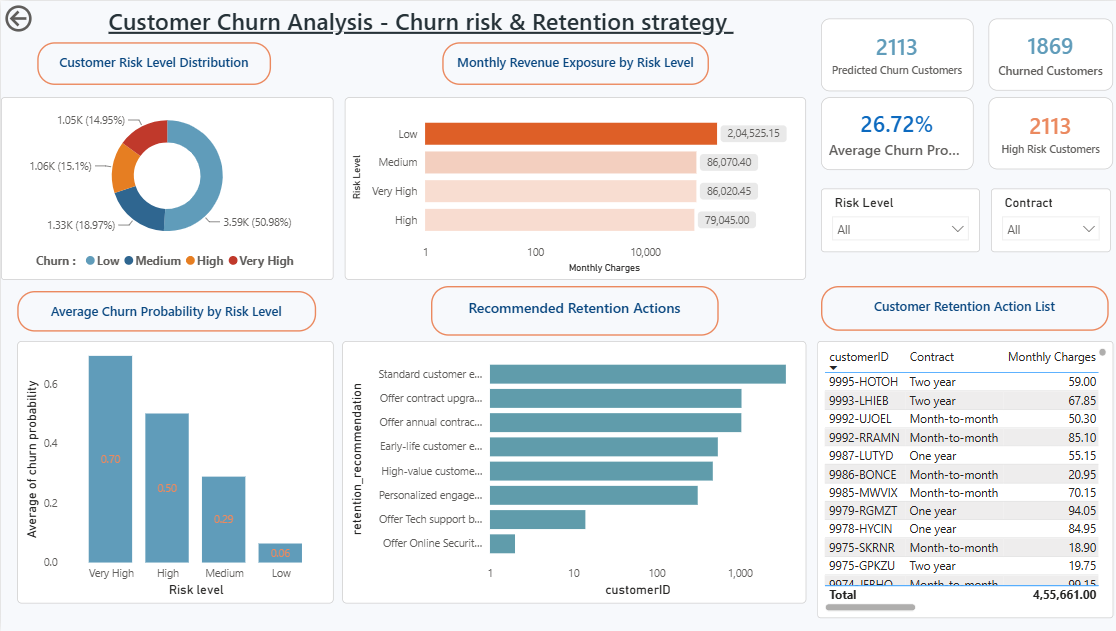

The page's visual inventory and layout, read from the dashboard file:
{"tool":"powerbi","page":{"name":"Churn risk & Retention strategy","canvas":[1280,720],"ordinal":2},"visuals":[{"type":"textbox","box":[101.4,0,757.1,47.1],"z":0},{"type":"cardVisual","fields":{"Data":["customer_churn_predictions.Predicted Churn Customers2"]},"box":[937.1,20,174.3,82.9],"z":1000},{"type":"cardVisual","fields":{"Data":["customer_churn_predictions.Churned Customers"]},"box":[1128.6,20,142.5,82.5],"z":2000},{"type":"cardVisual","fields":{"Data":["customer_churn_predictions.Average Churn Probability"]},"box":[937.1,110,174.3,82.9],"z":4000},{"type":"cardVisual","fields":{"Data":["customer_churn_predictions.High Risk Customers"]},"box":[1128.6,110,142.5,82.5],"z":6000},{"type":"donutChart","title":"Customer Churn Distribution","fields":{"Category":["customer_churn_predictions.risk_level"],"Y":["Count(customer_churn_predictions.customerID)"]},"box":[0,110,380,208.6],"z":7000},{"type":"textbox","box":[41.4,47.1,267.5,48.8],"z":8000},{"type":"barChart","fields":{"Category":["customer_churn_predictions.risk_level"],"Y":["Sum(customer_churn_predictions.MonthlyCharges)"]},"box":[392.9,110,527.5,208.8],"z":9000},{"type":"textbox","box":[504.3,47.1,305,48.8],"z":10000},{"type":"clusteredBarChart","fields":{"Category":["customer_churn_predictions.retention_recommendation"],"Y":["Count(customer_churn_predictions.customerID)"]},"box":[390,388.6,530,300],"z":11000},{"type":"textbox","box":[491.4,325.7,328.6,57.1],"z":12000},{"type":"textbox","box":[18.6,331.4,341.2,46.2],"z":13000},{"type":"columnChart","fields":{"Category":["customer_churn_predictions.risk_level"],"Y":["Avg(customer_churn_predictions.churn_probability)"]},"box":[18.6,388.6,361.4,300],"z":14000},{"type":"tableEx","fields":{"Values":["customer_churn_predictions.customerID","customer_churn_predictions.Contract","Sum(customer_churn_predictions.MonthlyCharges)","Sum(customer_churn_predictions.tenure)","customer_churn_predictions.churn_probability","customer_churn_predictions.risk_level","Sum(customer_churn_predictions.predicted_churn)","customer_churn_predictions.retention_recommendation"]},"box":[932.9,388.6,338.6,317.1],"z":14001},{"type":"actionButton","box":[0,0,100,40],"z":14002},{"type":"textbox","box":[937.1,325.7,328.6,51.4],"z":14003},{"type":"slicer","fields":{"Values":["customer_churn_predictions.risk_level"]},"box":[937.1,214.3,181.4,72.9],"z":14004},{"type":"slicer","fields":{"Values":["customer_churn_predictions.Contract"]},"box":[1131.4,214.3,137.1,72.9],"z":14005}]}

Visuals, with their boxes in screenshot pixels (x1, y1, x2, y2), scaled from the page's 1280x720 canvas onto the 1116x631 screenshot:
textbox: crop(88, 0, 749, 41)
cardVisual - customer_churn_predictions.Predicted Churn Customers2: crop(817, 18, 969, 90)
cardVisual - customer_churn_predictions.Churned Customers: crop(984, 18, 1108, 90)
cardVisual - customer_churn_predictions.Average Churn Probability: crop(817, 96, 969, 169)
cardVisual - customer_churn_predictions.High Risk Customers: crop(984, 96, 1108, 169)
"Customer Churn Distribution" donutChart: crop(0, 96, 331, 279)
textbox: crop(36, 41, 269, 84)
barChart - customer_churn_predictions.risk_level x Sum(customer_churn_predictions.MonthlyCharges): crop(343, 96, 802, 279)
textbox: crop(440, 41, 706, 84)
clusteredBarChart - customer_churn_predictions.retention_recommendation x Count(customer_churn_predictions.customerID): crop(340, 341, 802, 603)
textbox: crop(428, 285, 715, 335)
textbox: crop(16, 290, 314, 331)
columnChart - customer_churn_predictions.risk_level x Avg(customer_churn_predictions.churn_probability): crop(16, 341, 331, 603)
tableEx - customer_churn_predictions.customerID x customer_churn_predictions.Contract: crop(813, 341, 1109, 618)
actionButton: crop(0, 0, 87, 35)
textbox: crop(817, 285, 1104, 330)
slicer - customer_churn_predictions.risk_level: crop(817, 188, 975, 252)
slicer - customer_churn_predictions.Contract: crop(986, 188, 1106, 252)
